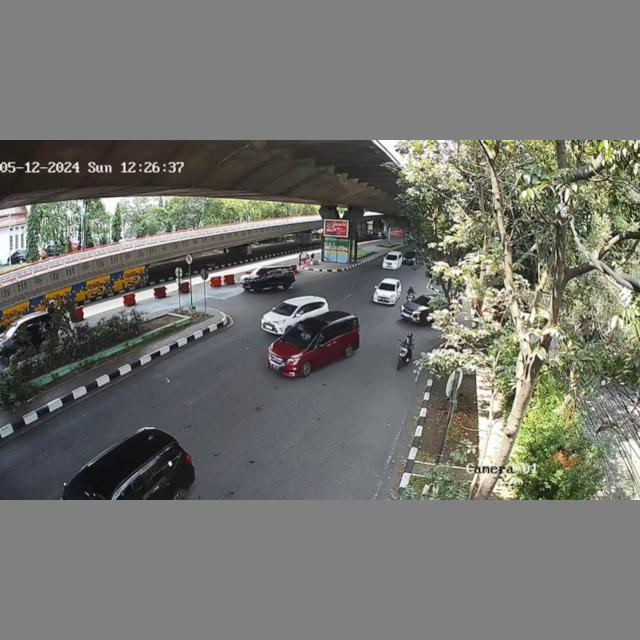windshield: (283, 325, 317, 350), (273, 299, 297, 317)
